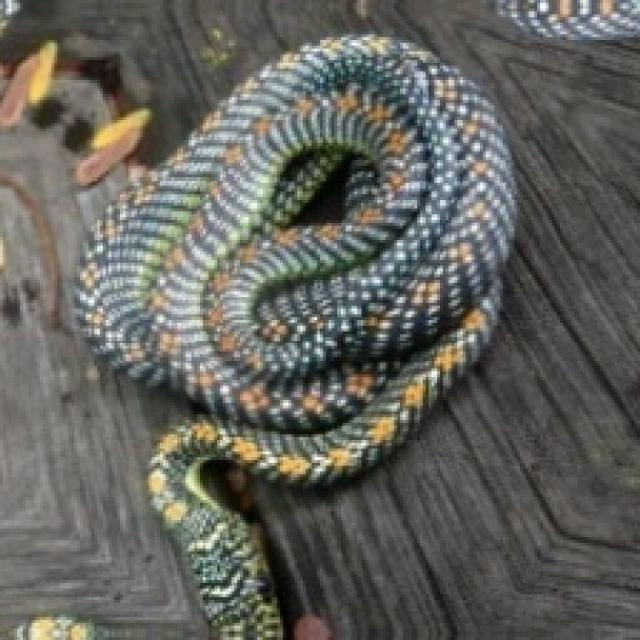paradise tree snake: (77, 34, 511, 637)
